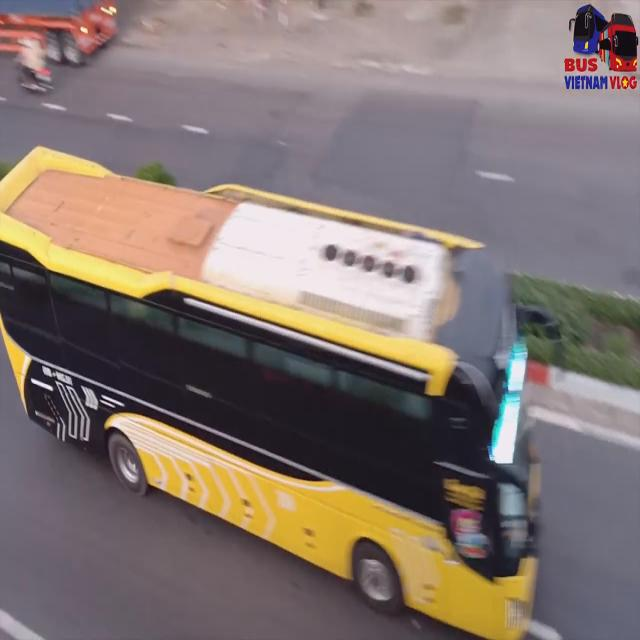bus: (0, 140, 543, 640)
